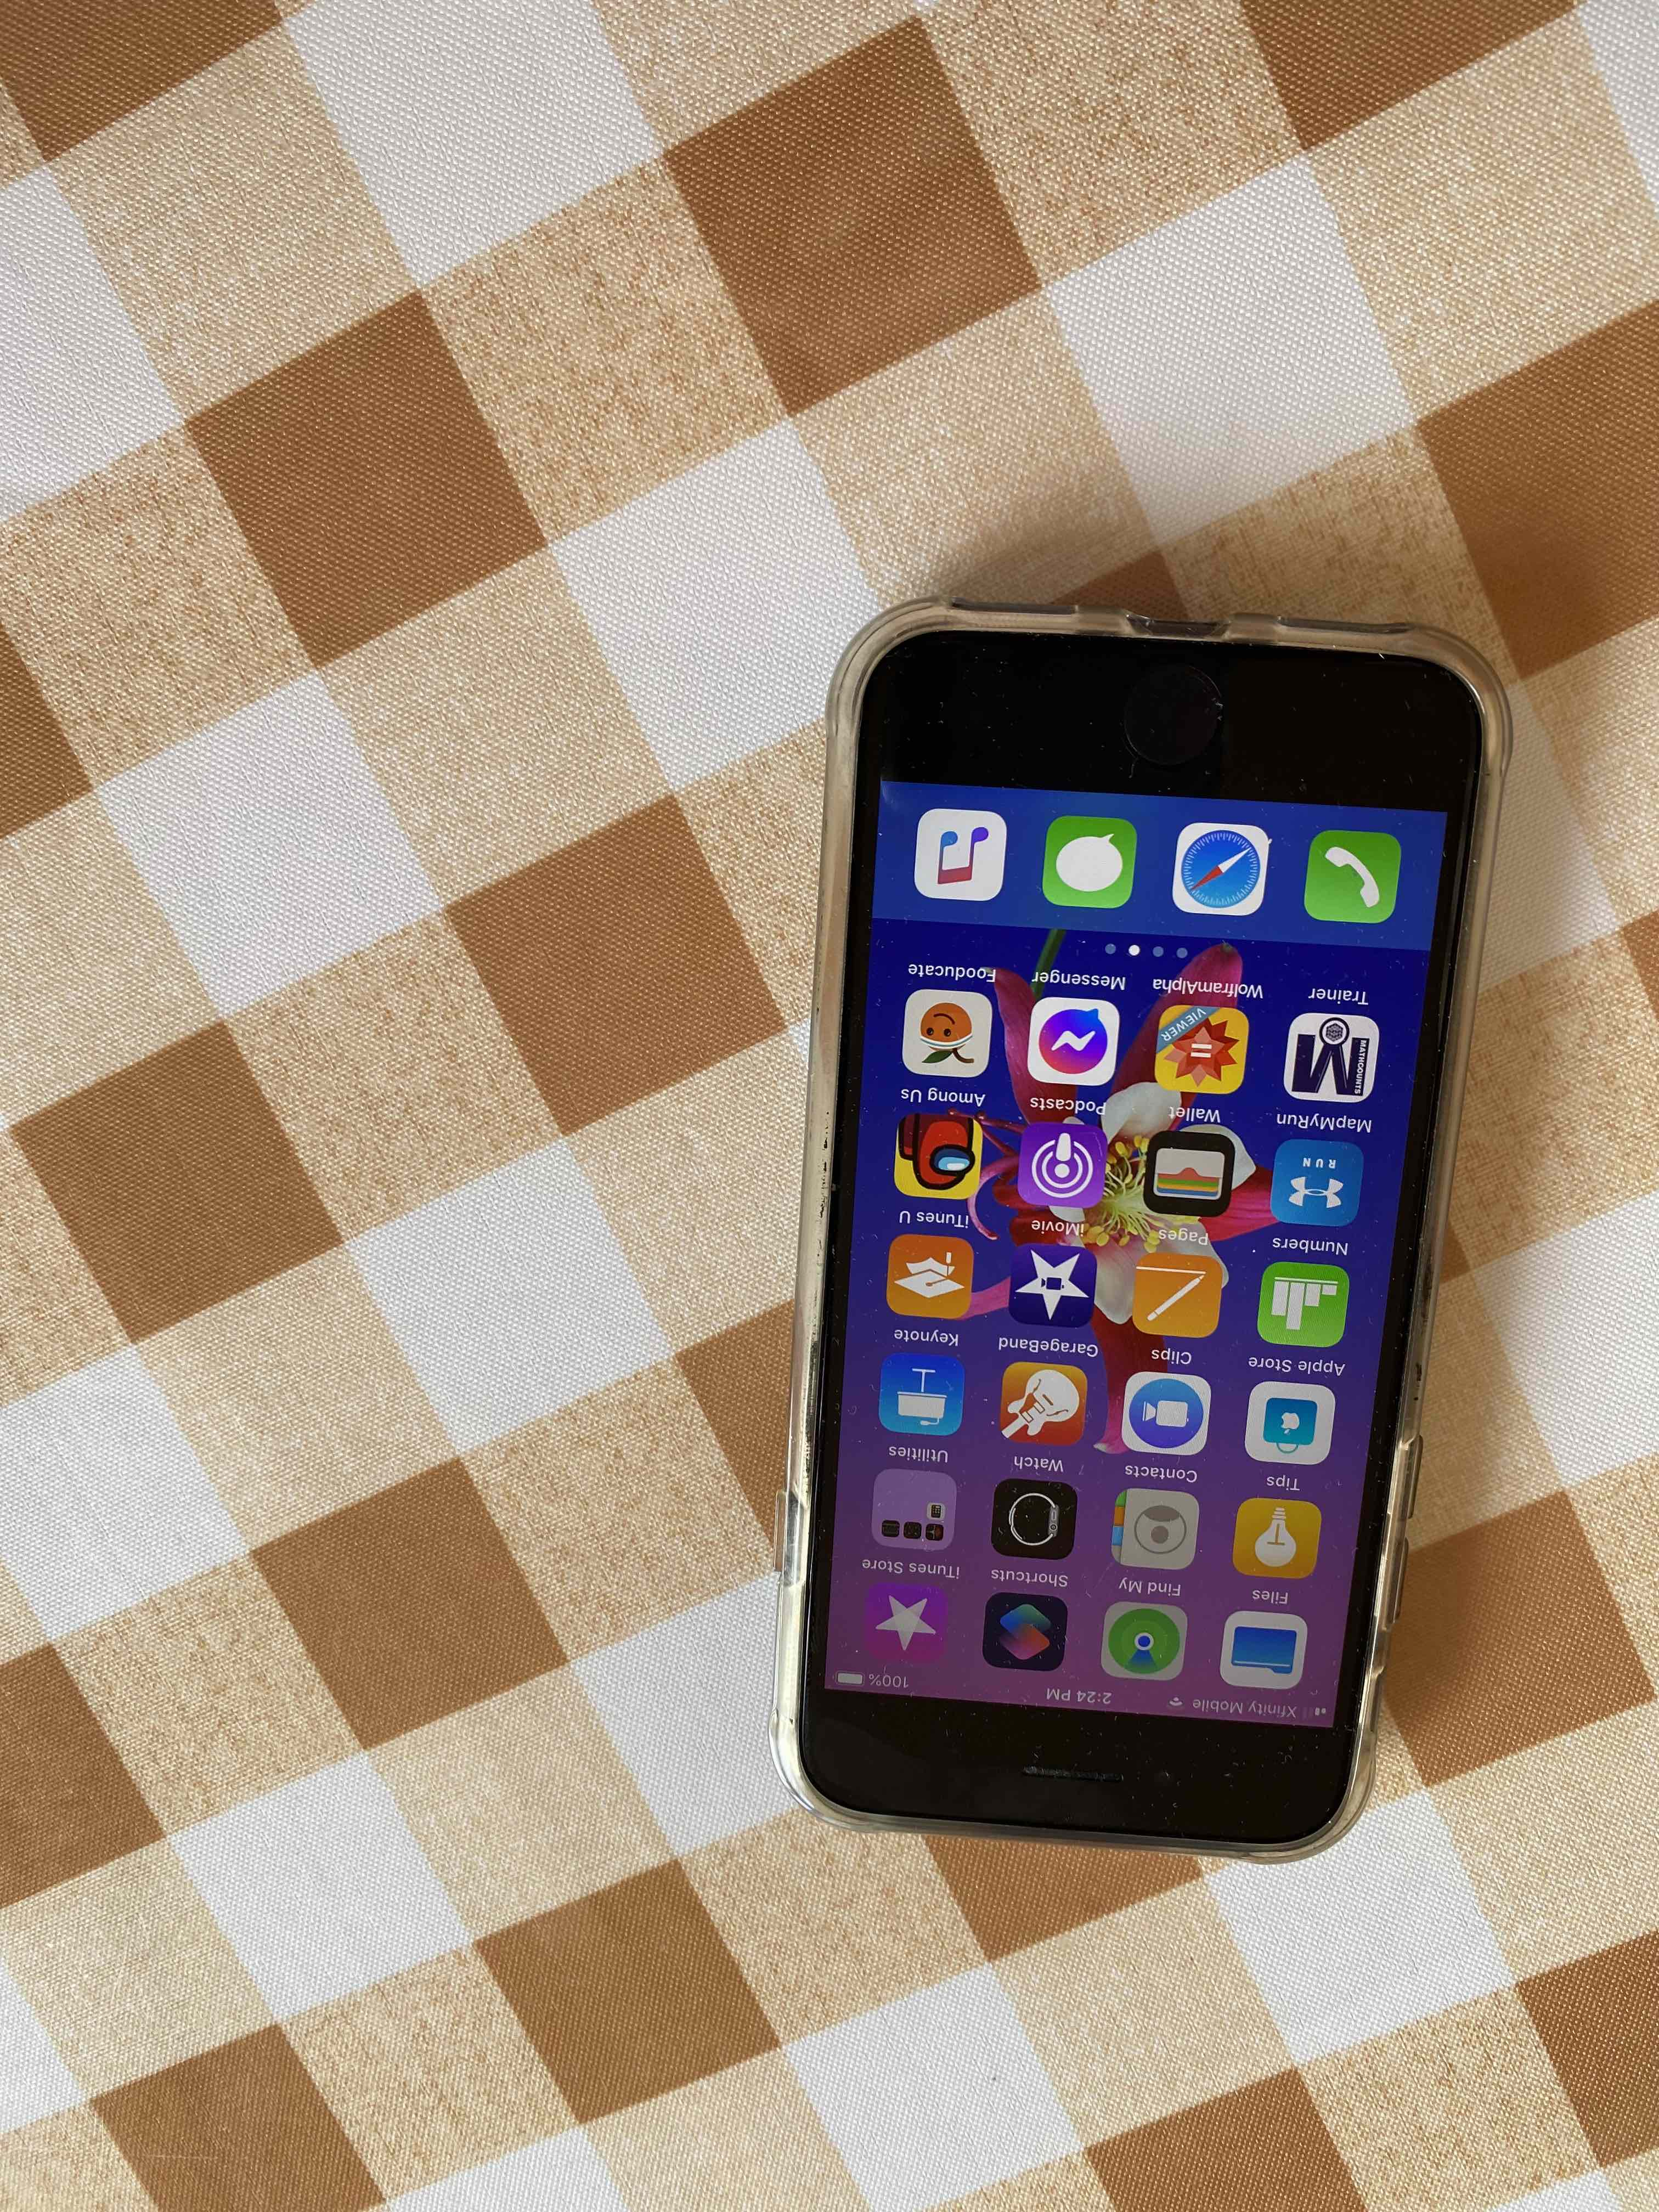Cell Phone: (781, 594, 1513, 1864)
